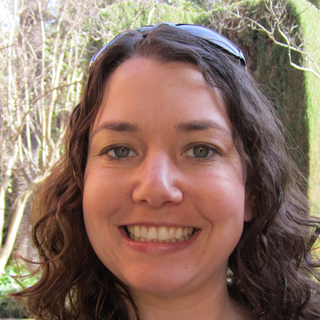eye: (177, 139, 225, 163), (99, 139, 143, 164)
